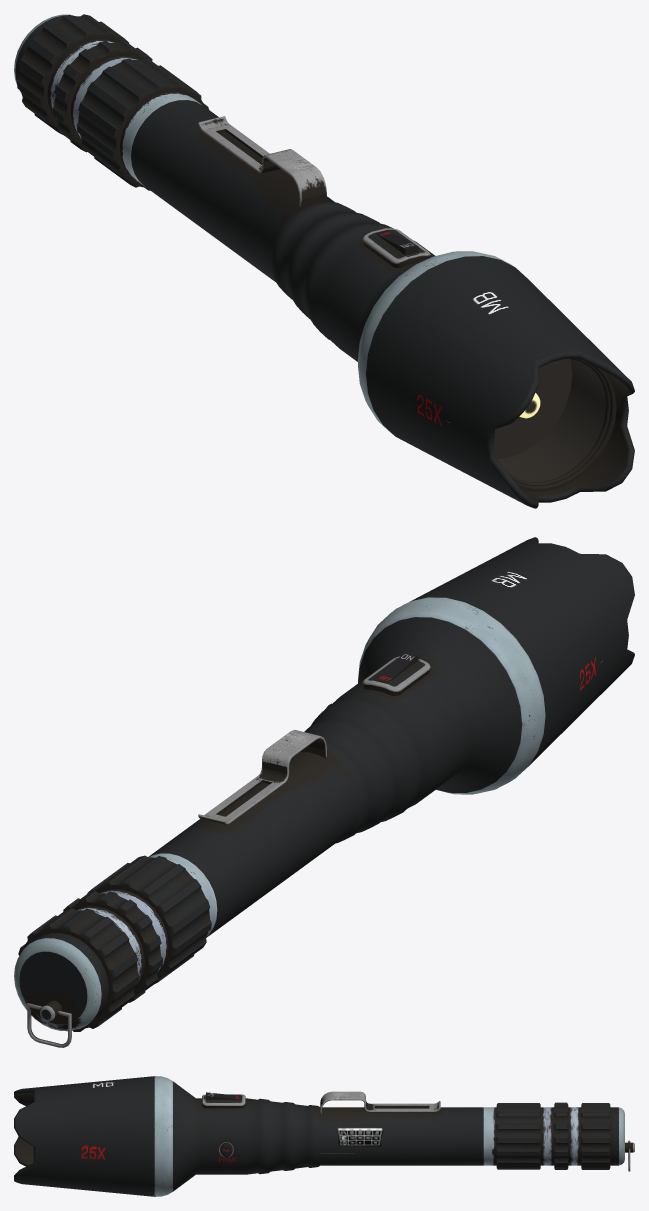
3 views of the same model, one above another, from view 1: azimuth 30°, elevation 25°; view 2: azimuth 150°, elevation 25°; view 3: azimuth 270°, elevation 25° (orthographic). The views are drawn at different scales.
Visible parts, largest first — view 1: base; view 2: base; view 3: base.
Part boxes in pixels (left/top/right/bottom): base: left=14, top=14, right=634, bottom=508; base: left=14, top=537, right=634, bottom=1047; base: left=14, top=1076, right=634, bottom=1196.
Size of the model in its own units: 2.08 by 2.07 by 10.66.
Materials: 2 (1 with a texture image).
